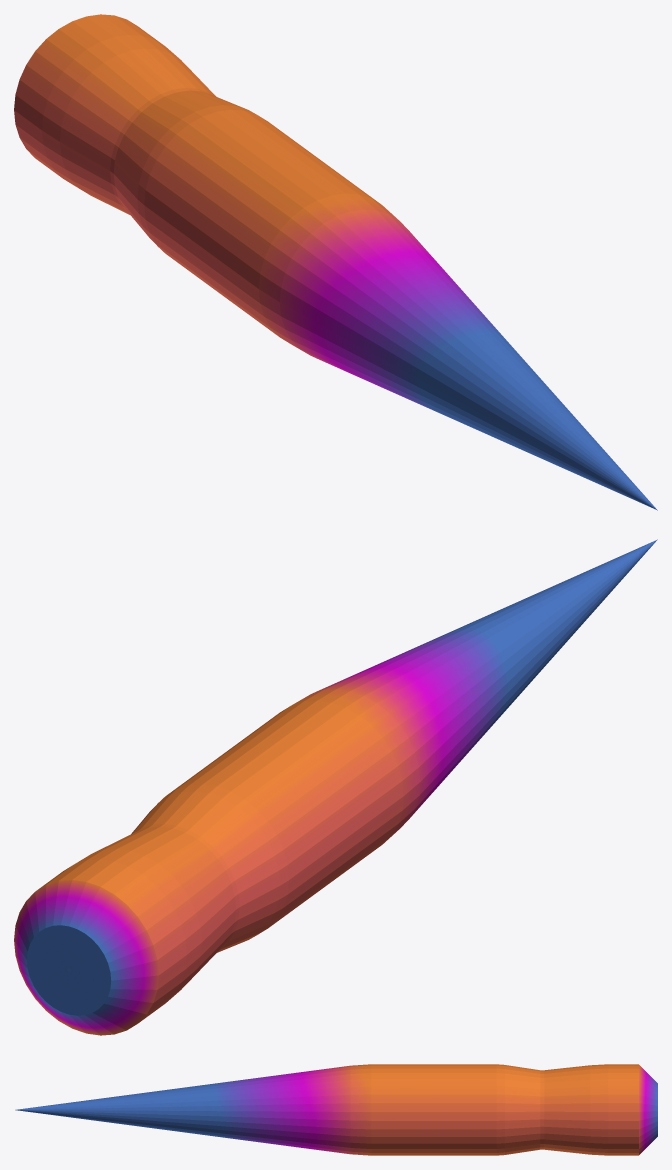
Rendered from fire.obj.
The picture shows the model from 3 angles, top to bottom: view 1: azimuth 30°, elevation 25°; view 2: azimuth 150°, elevation 25°; view 3: azimuth 270°, elevation 25°; orthographic projection. The views are drawn at different scales.
Visible parts, largest first — view 1: Cone; view 2: Cone; view 3: Cone.
Part boxes in pixels (bbox=[...]): Cone: bbox=[14, 14, 657, 510]; Cone: bbox=[14, 539, 657, 1035]; Cone: bbox=[15, 1064, 657, 1155].
Bounding box in the file's own units: 2 × 2 × 14.07.
1 material, 1 textured.
